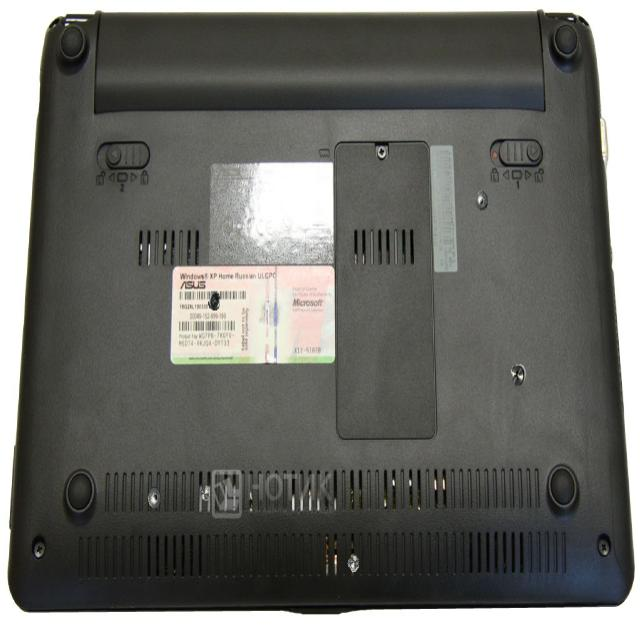lock: (510, 361, 526, 387), (208, 290, 220, 310), (348, 554, 359, 572), (200, 485, 210, 501)
missing_screw: (148, 486, 161, 508), (475, 190, 488, 210)
